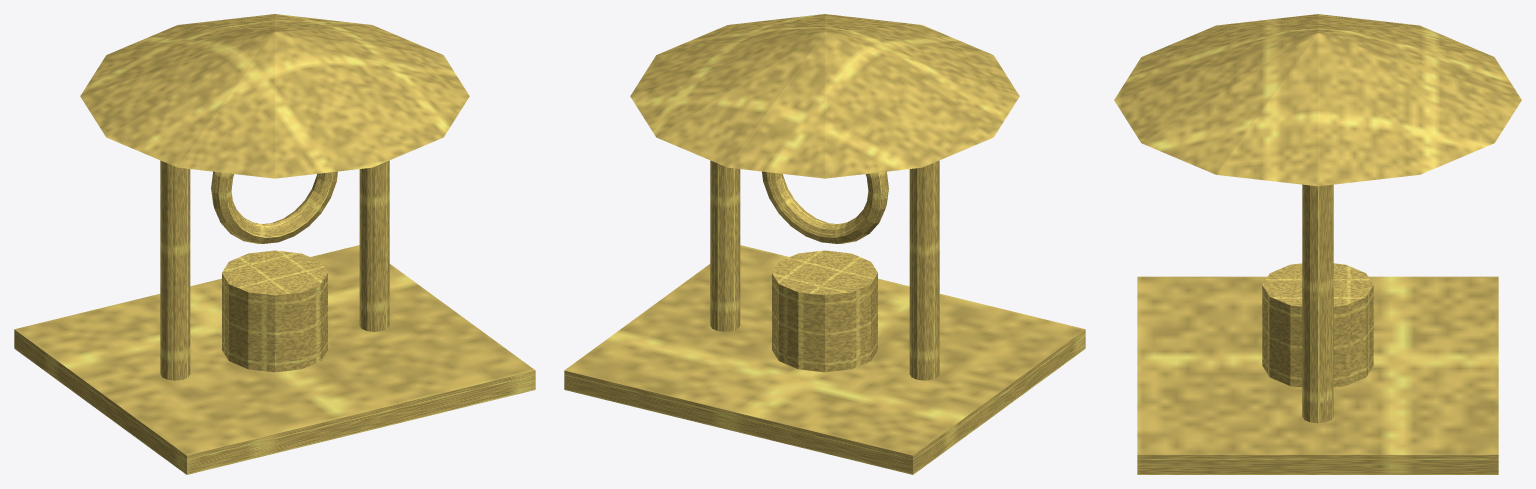
File: dawn_sanctuary_02.glb
3 renders of one model, left to right at view 1: azimuth 30°, elevation 25°; view 2: azimuth 150°, elevation 25°; view 3: azimuth 270°, elevation 25°, orthographic. The views are drawn at different scales.
Visible parts, largest first — view 1: Foundation, DawnRoof, DawnAltar, DawnColumn, DawnColumn.001, SunDisk; view 2: Foundation, DawnRoof, DawnAltar, DawnColumn, DawnColumn.001, SunDisk; view 3: Foundation, DawnRoof, DawnAltar, DawnColumn.001.
Boxes of the visible parts, x1,y1,x2,y2 form: Foundation: (14,245,535,474); DawnRoof: (80,14,469,178); DawnAltar: (222,250,327,372); DawnColumn: (160,160,190,380); DawnColumn.001: (359,160,389,331); SunDisk: (211,171,337,243); Foundation: (564,245,1085,474); DawnRoof: (630,14,1019,178); DawnAltar: (772,250,877,372); DawnColumn: (909,160,939,380); DawnColumn.001: (710,160,740,331); SunDisk: (762,171,888,243); Foundation: (1137,276,1498,474); DawnRoof: (1114,14,1521,186); DawnAltar: (1262,263,1373,387); DawnColumn.001: (1302,184,1333,423).
Size of the model in its own units: 4.55 by 4.2 by 4.4.
Materials: 1 (1 with a texture image).
